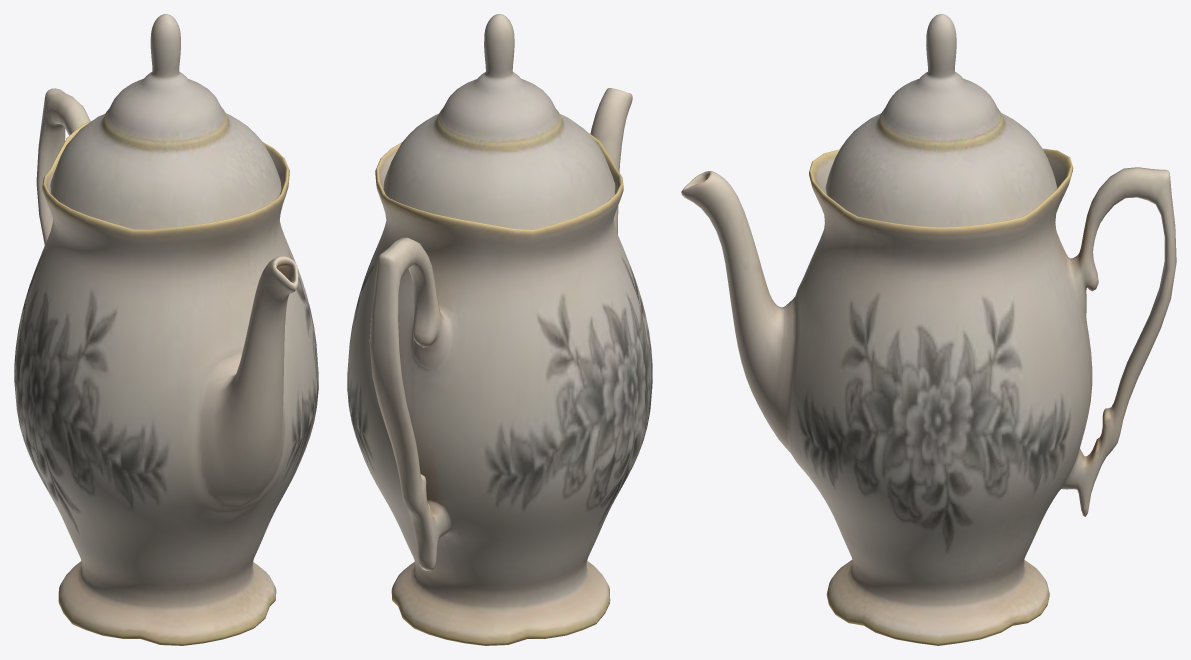
The model's file is teapot.glb.
3 renders of one model, left to right at view 1: azimuth 30°, elevation 25°; view 2: azimuth 150°, elevation 25°; view 3: azimuth 270°, elevation 25°, orthographic.
Parts seen in each view (by area): view 1: tea_set_01_teapot_01.001, tea_set_01_teapot_01_lid.001; view 2: tea_set_01_teapot_01.001, tea_set_01_teapot_01_lid.001; view 3: tea_set_01_teapot_01.001, tea_set_01_teapot_01_lid.001.
Boxes of the visible parts, x1,y1,x2,y2 form: tea_set_01_teapot_01.001: (14,88,318,645); tea_set_01_teapot_01_lid.001: (50,14,281,229); tea_set_01_teapot_01.001: (347,88,652,645); tea_set_01_teapot_01_lid.001: (383,14,615,229); tea_set_01_teapot_01.001: (681,148,1176,645); tea_set_01_teapot_01_lid.001: (825,14,1057,227).
Size of the model in its own units: 3.82 by 8.09 by 6.2.
Materials: 1 (1 with a texture image).
